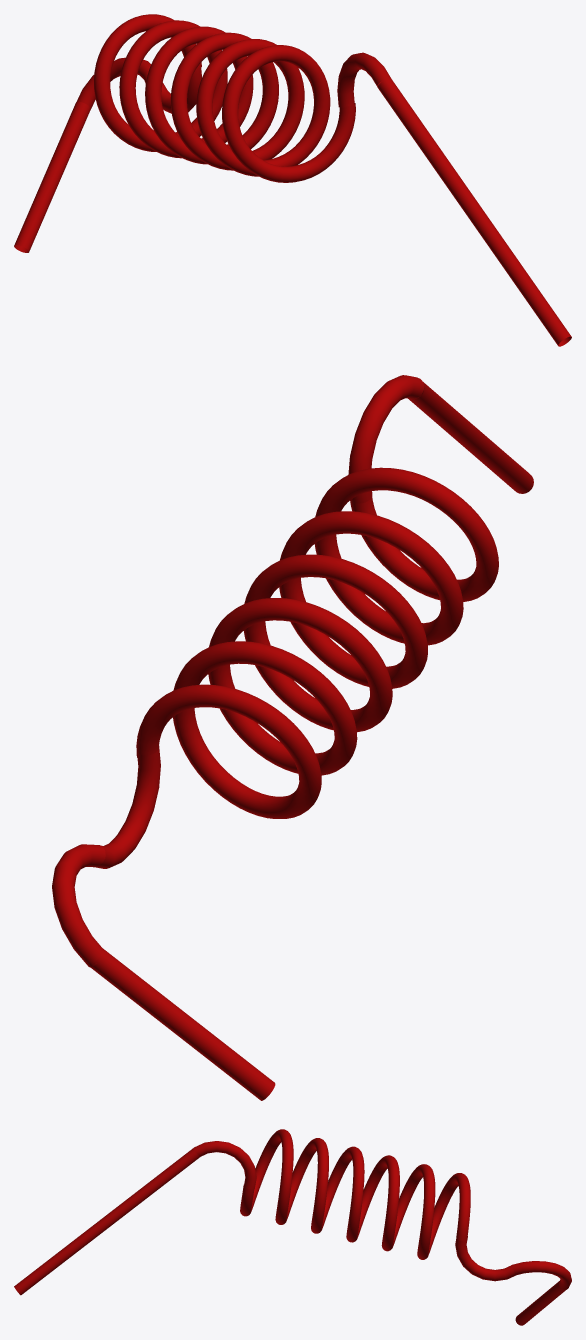
The model's file is CurlyTube.fbx.
3 views of the same model, one above another, from view 1: azimuth 30°, elevation 25°; view 2: azimuth 150°, elevation 25°; view 3: azimuth 270°, elevation 25° (orthographic). The views are drawn at different scales.
Visible parts, largest first — view 1: CurlyThing; view 2: CurlyThing; view 3: CurlyThing.
Part boxes in pixels (x1=…): CurlyThing: x1=14, y1=14, x2=571, y2=346; CurlyThing: x1=52, y1=375, x2=533, y2=1100; CurlyThing: x1=14, y1=1129, x2=571, y2=1325.
Size of the model in its own units: 26.89 by 43.81 by 97.87.
